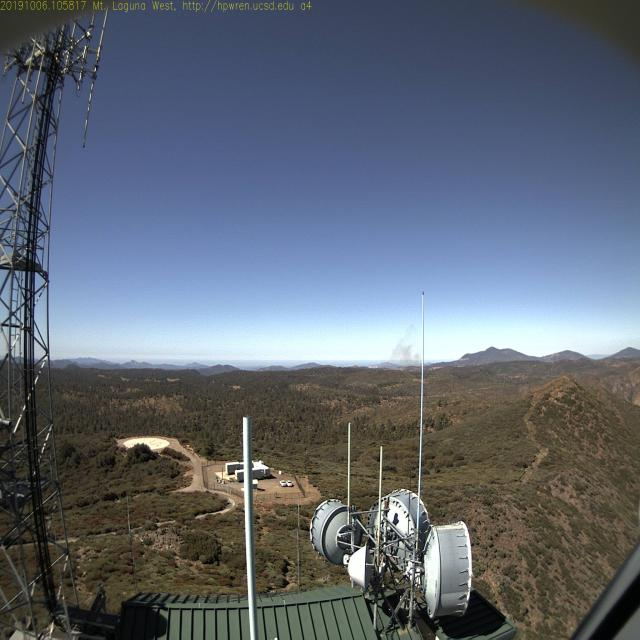smoke: (387, 321, 428, 367)
